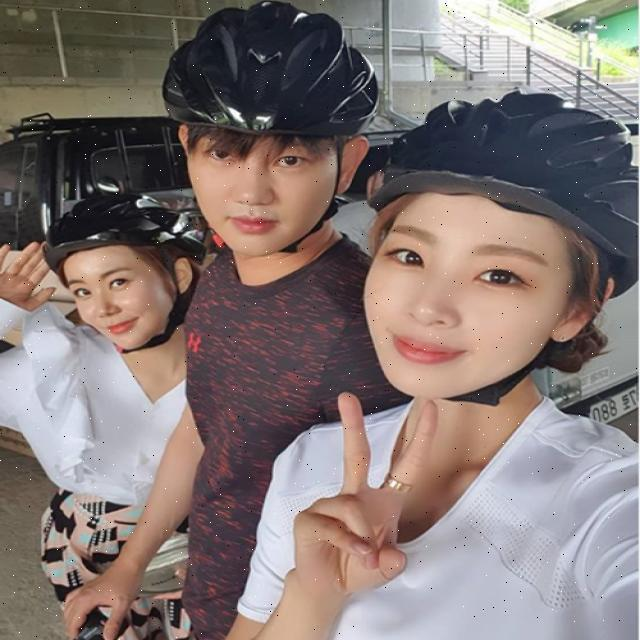helmet: (366, 94, 638, 408), (164, 0, 380, 258), (42, 194, 200, 356)
